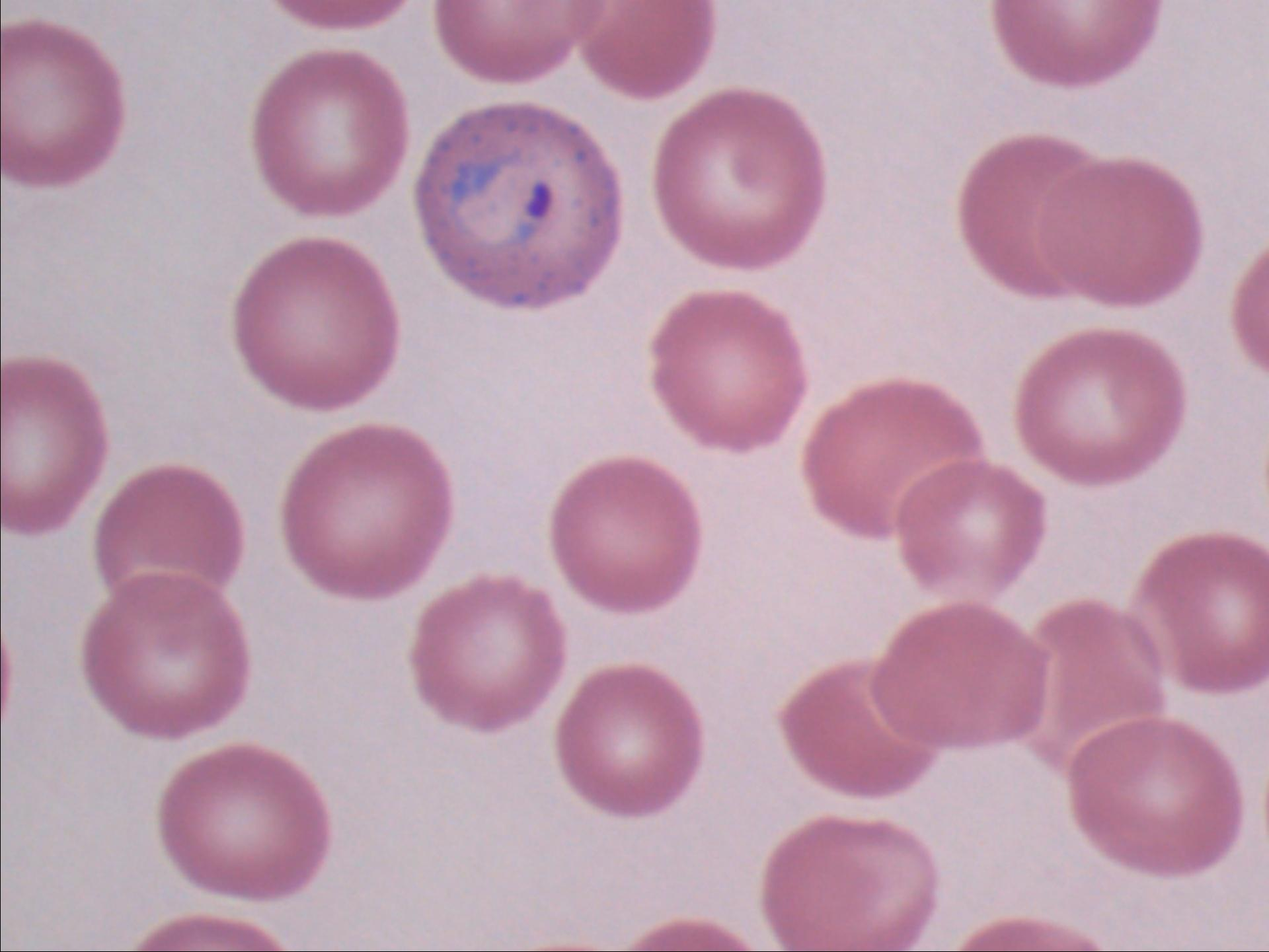Infected: (648, 641, 852, 846)
Uninfected: (445, 686, 609, 858), (819, 355, 983, 524), (29, 73, 200, 229), (870, 543, 1030, 708), (70, 647, 244, 797), (293, 416, 461, 571), (221, 201, 396, 348), (1022, 215, 1180, 377), (701, 219, 858, 379), (941, 50, 1104, 201), (86, 468, 248, 618), (861, 739, 1012, 897), (463, 501, 611, 655), (172, 648, 304, 817), (105, 190, 245, 349), (336, 3, 505, 134), (564, 131, 706, 285), (570, 340, 714, 490), (224, 355, 373, 493), (338, 154, 486, 291), (1144, 768, 1267, 922), (0, 264, 125, 415), (1161, 422, 1268, 585), (1028, 360, 1167, 485), (108, 864, 272, 947), (673, 867, 831, 951), (554, 854, 686, 951)
